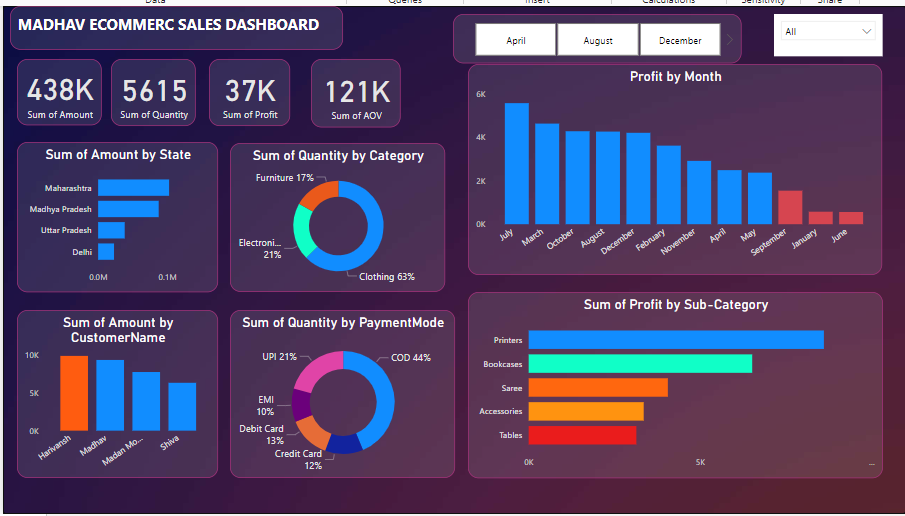

This screenshot's page, from the dashboard's own definition file:
{"tool":"powerbi","page":{"name":"Page 1","canvas":[1280,720],"ordinal":0},"visuals":[{"type":"textbox","box":[9.9,0,472,62.4],"z":0},{"type":"columnChart","title":" Profit by Month","fields":{"Category":["Orders (1).Order Month"],"Y":["Details.Profit"]},"box":[659.1,82.2,586.8,299.1],"z":1000},{"type":"barChart","fields":{"Category":["Details.Sub-Category"],"Y":["Details.Profit"]},"box":[659.1,405.4,588.2,263.6],"z":2000},{"type":"donutChart","fields":{"Category":["Details.Category"],"Y":["Details.Quantity"]},"box":[322.1,194.6,305.3,211.4],"z":3000},{"type":"donutChart","fields":{"Y":["Details.Quantity"],"Series":["Details.PaymentMode"]},"box":[321.7,430.9,318.9,238.1],"z":4000},{"type":"card","fields":{"Values":["Details.Amount"]},"box":[19.8,75.1,120.5,93.5],"z":5000},{"type":"card","fields":{"Values":["Details.Quantity"]},"box":[153.1,75.1,120.5,95],"z":6000},{"type":"card","fields":{"Values":["Details.Profit"]},"box":[292,75.1,114.8,95],"z":7000},{"type":"card","fields":{"Values":["Details.AOV"]},"box":[436.2,75.5,127.5,97.3],"z":8000},{"type":"barChart","fields":{"Category":["Orders (1).State"],"Y":["Details.Amount"]},"box":[20.1,192.9,285.2,213.1],"z":9000},{"type":"columnChart","fields":{"Category":["Orders (1).CustomerName"],"Y":["Details.Amount"]},"box":[20,431,285,238],"z":10000},{"type":"slicer","fields":{"Values":["Orders (1).State"]},"box":[1092.1,11.7,154.3,60.4],"z":11000},{"type":"slicer","fields":{"Values":["Orders (1).Order Month"]},"box":[637.4,11.7,409.3,70.5],"z":11001}]}

Visuals, with their boxes on the page's 1280x720 design canvas (x1, y1, x2, y2). These are canvas units, not pixel positions in the 905x516 screenshot, which may show the page scaled, cropped or inside an application window:
textbox: {"left": 10, "top": 0, "right": 482, "bottom": 62}
" Profit by Month" columnChart: {"left": 659, "top": 82, "right": 1246, "bottom": 381}
barChart - Details.Sub-Category x Details.Profit: {"left": 659, "top": 405, "right": 1247, "bottom": 669}
donutChart - Details.Category x Details.Quantity: {"left": 322, "top": 195, "right": 627, "bottom": 406}
donutChart - Details.Quantity x Details.PaymentMode: {"left": 322, "top": 431, "right": 641, "bottom": 669}
card - Details.Amount: {"left": 20, "top": 75, "right": 140, "bottom": 169}
card - Details.Quantity: {"left": 153, "top": 75, "right": 274, "bottom": 170}
card - Details.Profit: {"left": 292, "top": 75, "right": 407, "bottom": 170}
card - Details.AOV: {"left": 436, "top": 76, "right": 564, "bottom": 173}
barChart - Orders (1).State x Details.Amount: {"left": 20, "top": 193, "right": 305, "bottom": 406}
columnChart - Orders (1).CustomerName x Details.Amount: {"left": 20, "top": 431, "right": 305, "bottom": 669}
slicer - Orders (1).State: {"left": 1092, "top": 12, "right": 1246, "bottom": 72}
slicer - Orders (1).Order Month: {"left": 637, "top": 12, "right": 1047, "bottom": 82}
